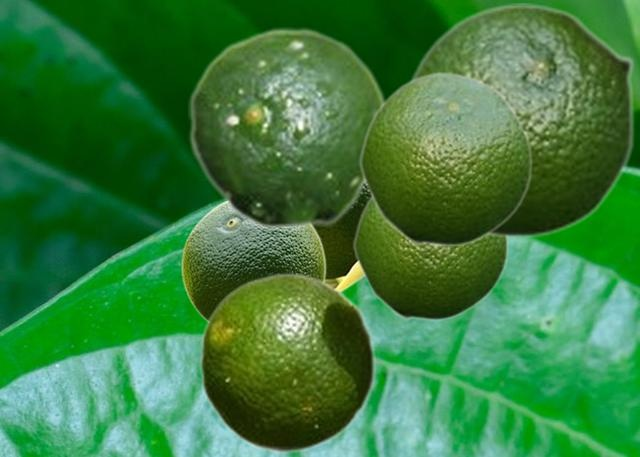calamansi: (405, 3, 635, 238), (188, 27, 387, 230), (198, 272, 376, 452), (358, 70, 532, 246), (352, 195, 508, 320), (181, 200, 325, 321), (316, 189, 369, 291)
